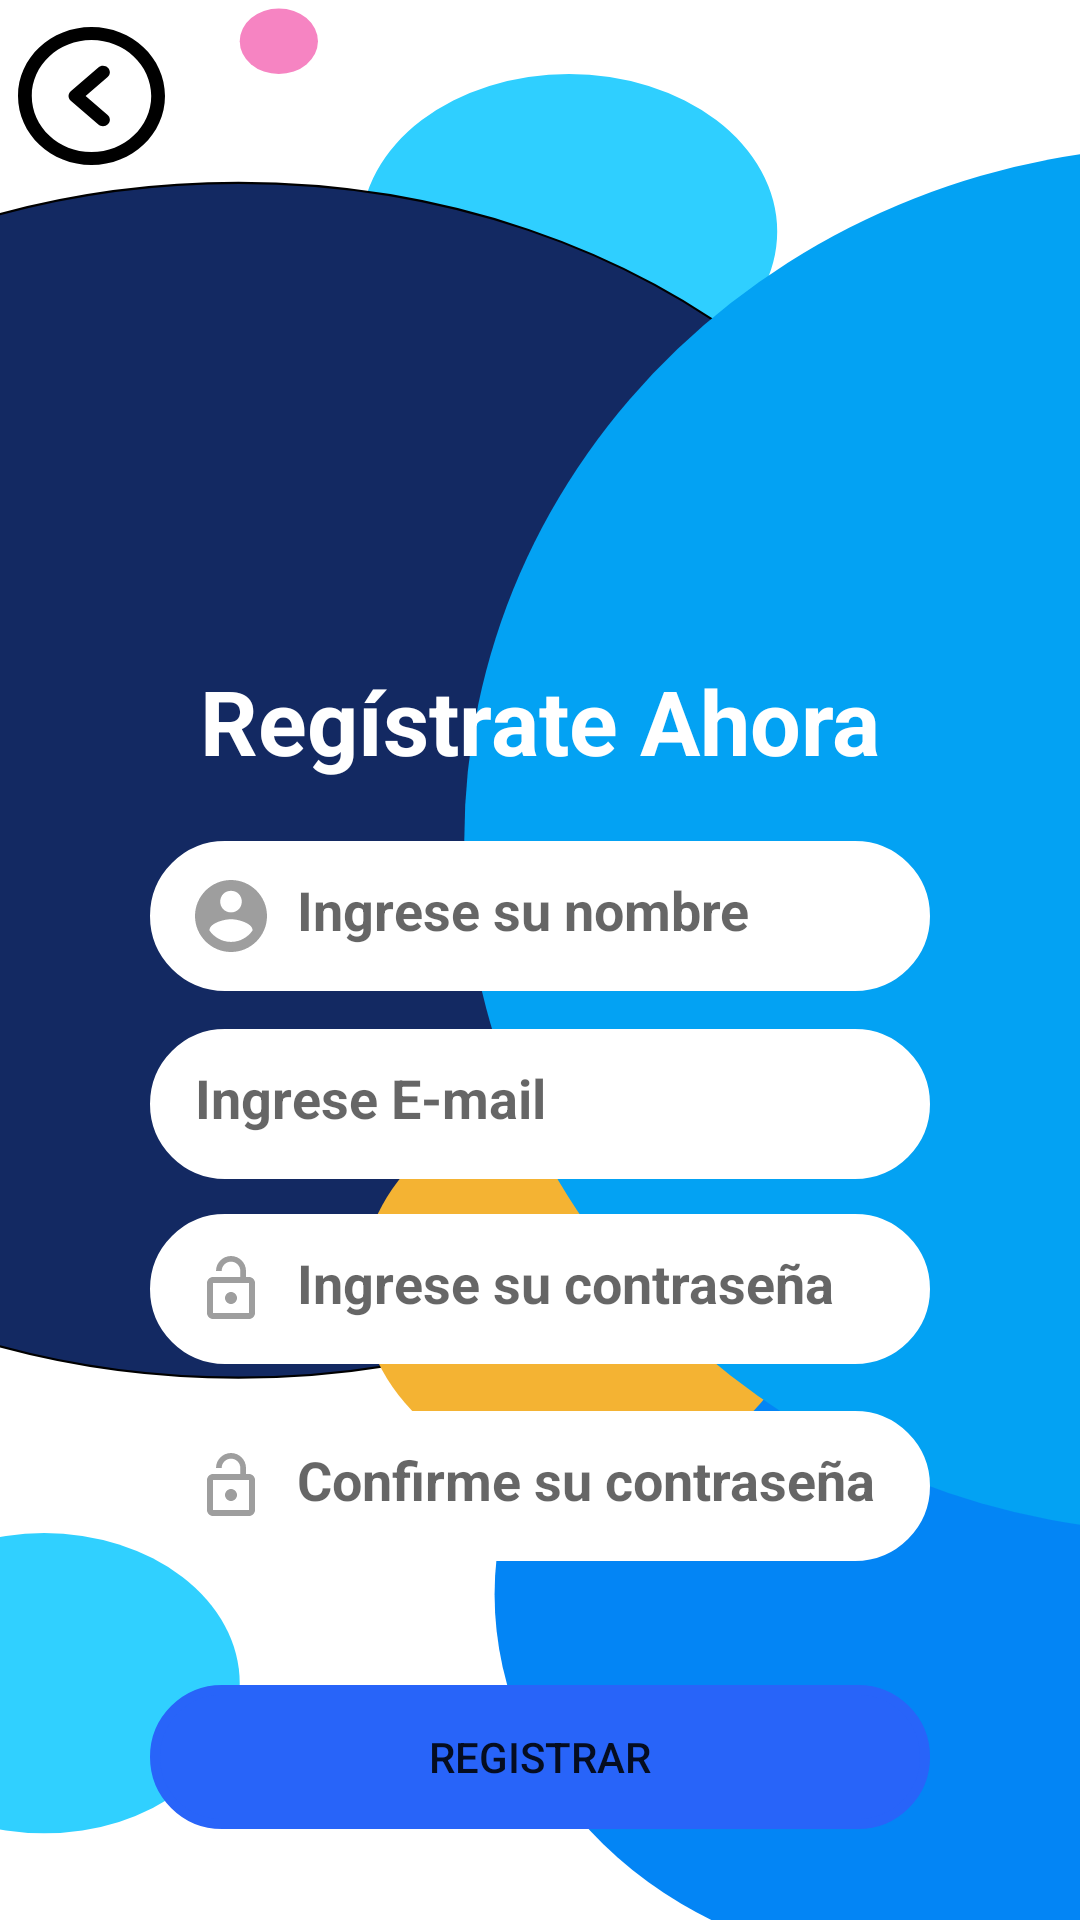

Where to tap for icons on this 1080*1920 app screen, as (x,y):
atras: (91,96)
